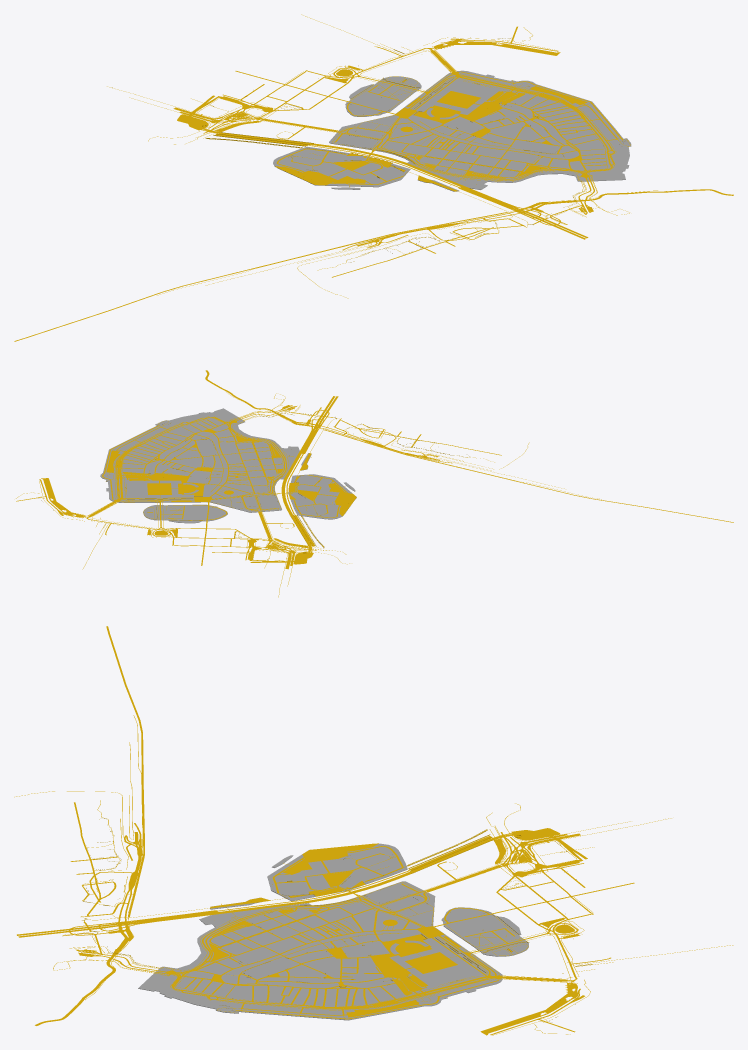
File: FlatMap.fbx
3 renders of one model, top to bottom at view 1: azimuth 30°, elevation 25°; view 2: azimuth 150°, elevation 25°; view 3: azimuth 270°, elevation 25°, orthographic. The views are drawn at different scales.
Parts seen in each view (by area): view 1: pPlane6; view 2: pPlane6; view 3: pPlane6.
Boxes of the visible parts, x1,y1,x2,y2 form: pPlane6: (14, 14, 733, 341); pPlane6: (16, 370, 733, 597); pPlane6: (14, 626, 733, 1035).
Bounding box in the file's own units: 2066 × 4.1 × 1534.
